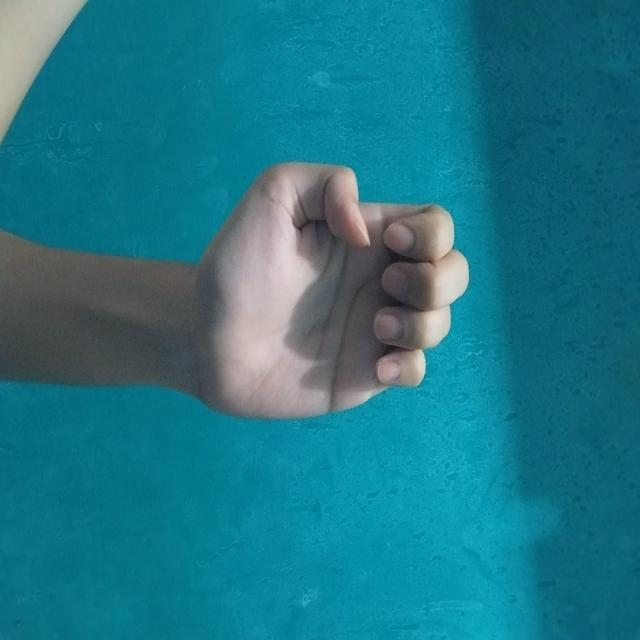E: (160, 166, 424, 436)
